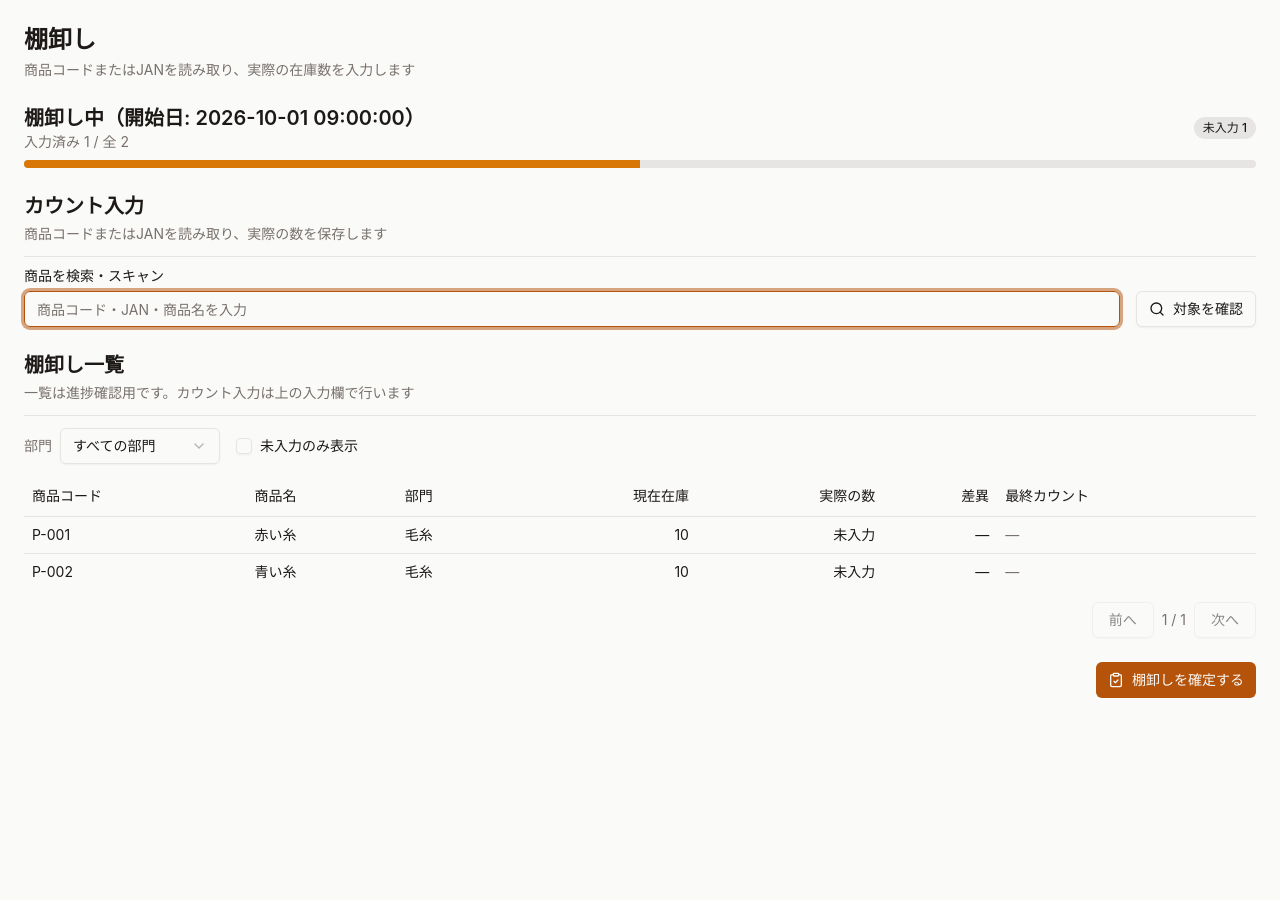
StocktakePage (UI-10) › T5 target none shows recovery text and does not update count
This screenshot has width=1280, height=900.
Check: the heading "棚卸し" is shown, box left=24, top=25, right=96, bottom=54
Check: the heading "棚卸し中（開始日: 2026-10-01 09:00:00）" is shown, box left=24, top=104, right=425, bottom=132
Type "NOPE" into the dropdown labelled "商品を検索・スキャン".
click(572, 309); type("NOPE")  # box left=24, top=291, right=1120, bottom=327
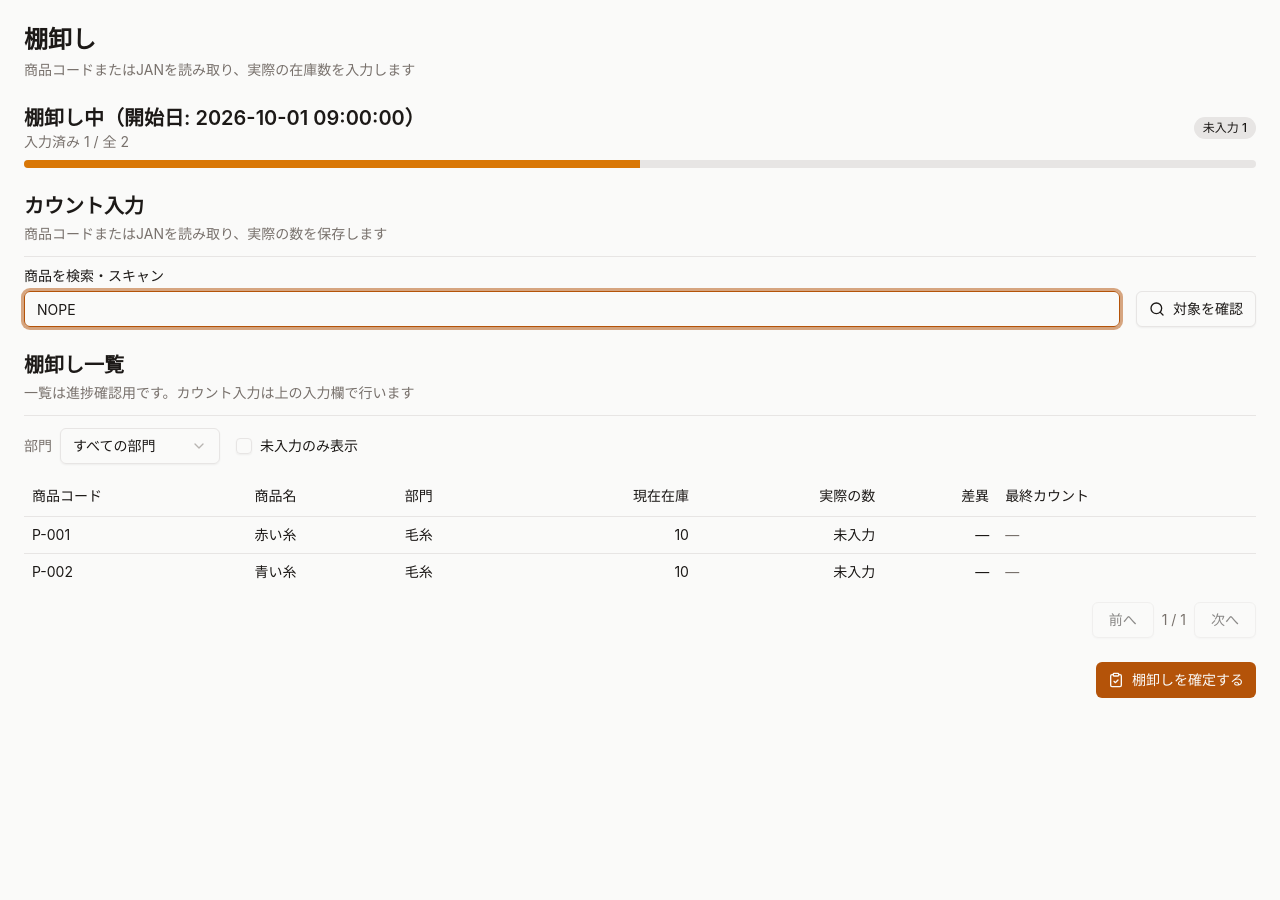
Click the button "対象を確認".
click(1196, 309)  # box left=1136, top=291, right=1256, bottom=327
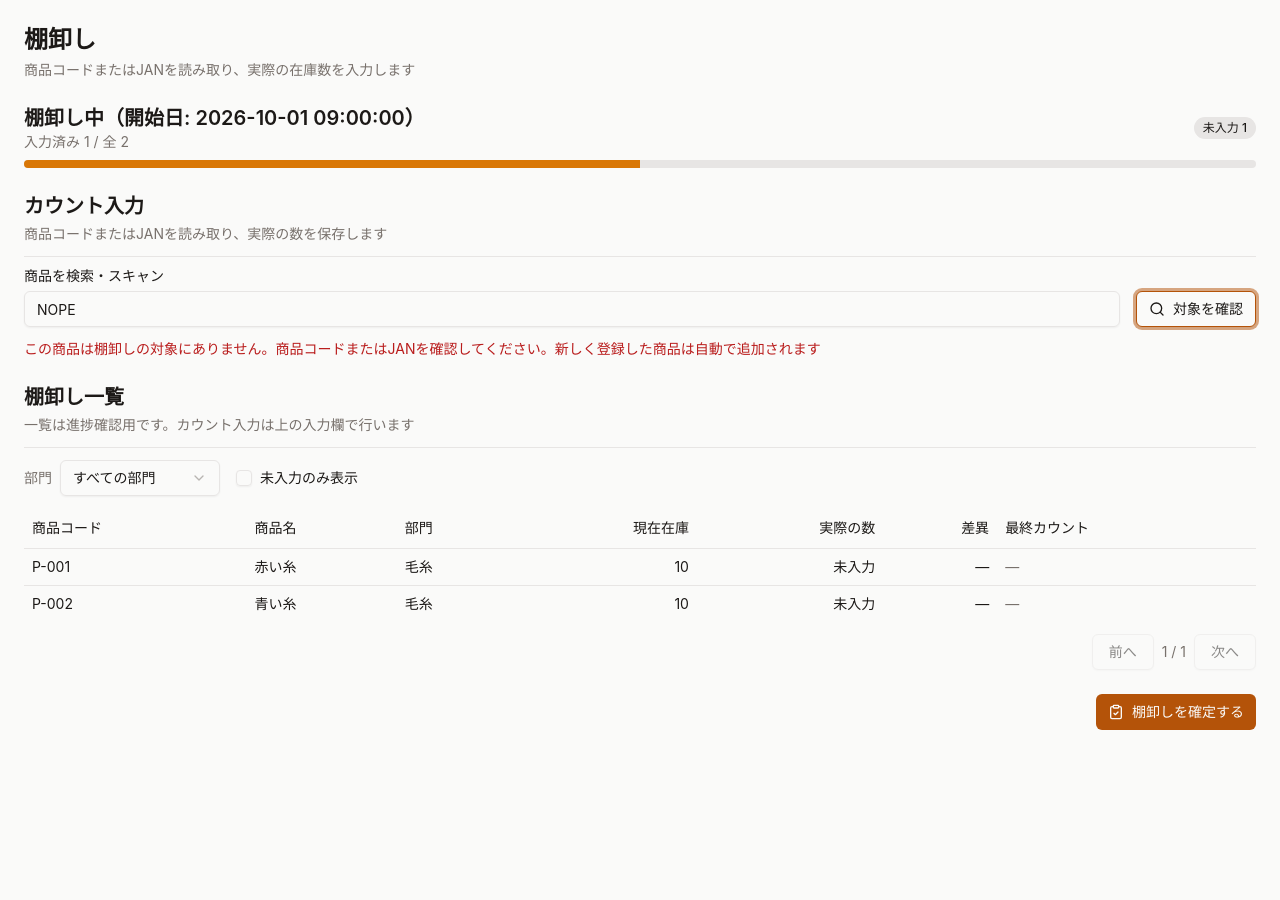
Check: the text "この商品は棚卸しの対象にありません。商品コードまたはJANを確認してください。新しく登録した商品は自動で追加されます" is shown, box left=24, top=340, right=821, bottom=357
